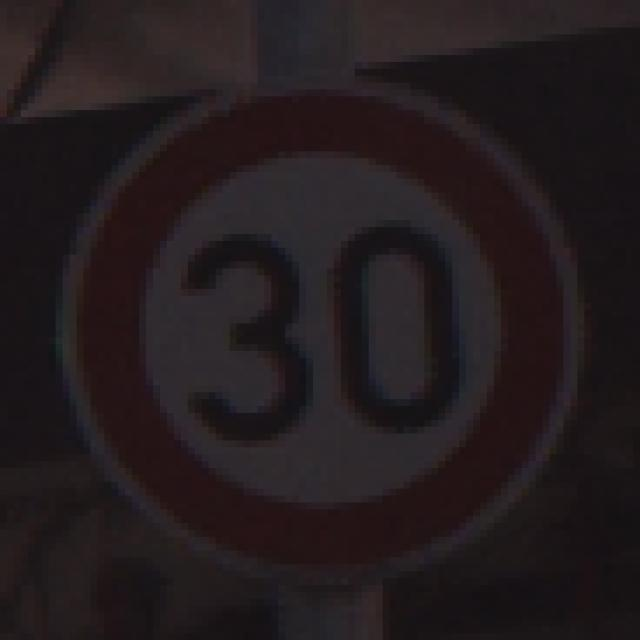Speed Limit -30-: (52, 55, 581, 571)
